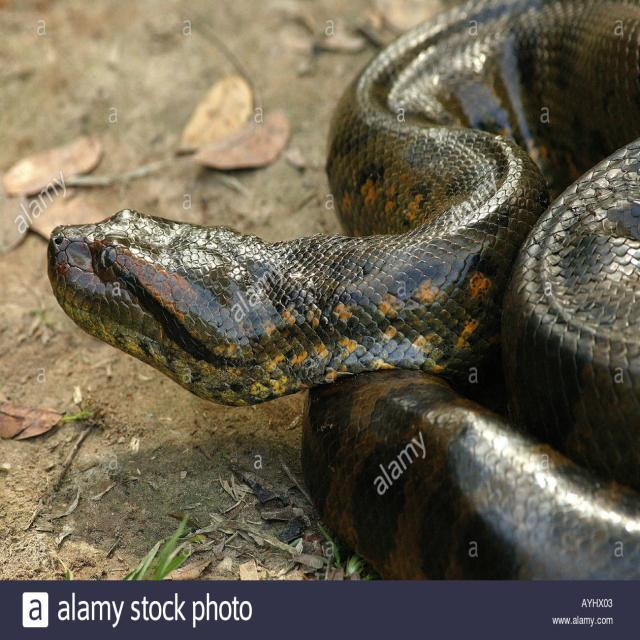Snake: (51, 18, 640, 566)
